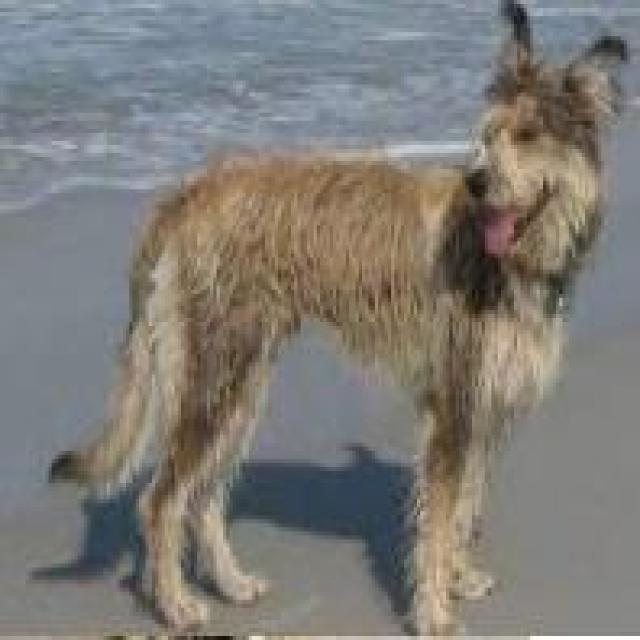Perro: (39, 0, 627, 640)
